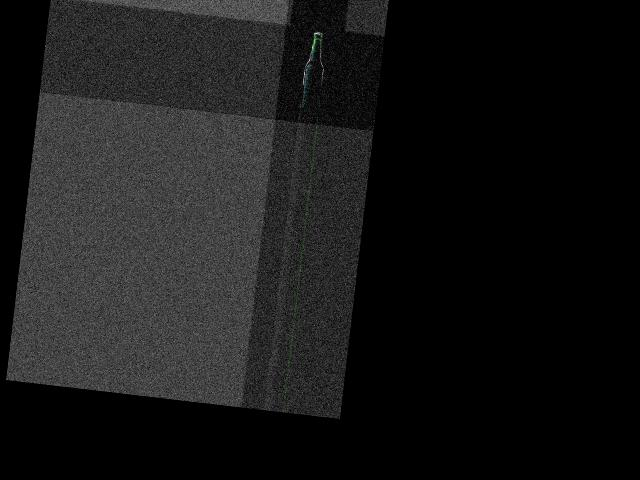beer: (298, 30, 327, 111)
